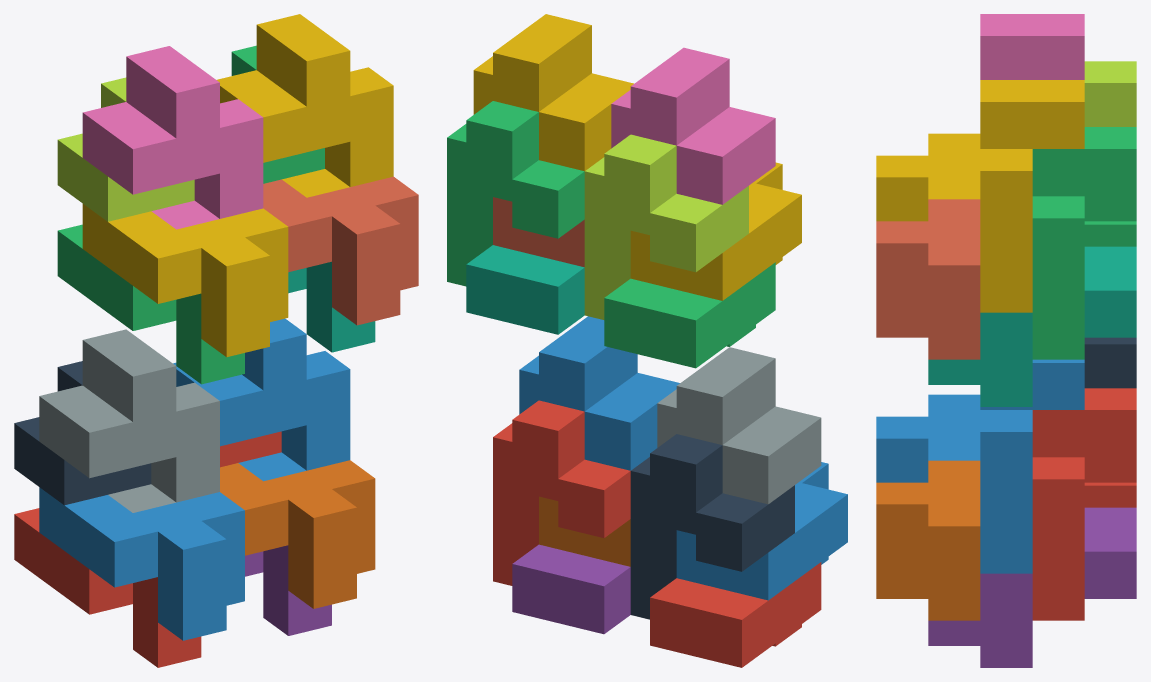
Rendered from tiling.obj.
3 views of the same model, side by side, from view 1: azimuth 30°, elevation 25°; view 2: azimuth 150°, elevation 25°; view 3: azimuth 270°, elevation 25° (orthographic). The views are drawn at different scales.
Parts seen in each view (by area): view 1: copy_2_domain_4, copy_2_domain_2, copy_2_domain_8, copy_1_domain_4, copy_1_domain_2, copy_1_domain_6, copy_1_domain_8, copy_2_domain_6, copy_1_domain_3, copy_1_domain_1, copy_2_domain_3, copy_2_domain_1 (+4 smaller); view 2: copy_2_domain_3, copy_2_domain_1, copy_2_domain_4, copy_2_domain_2, copy_2_domain_5, copy_2_domain_7, copy_2_domain_8, copy_2_domain_6, copy_1_domain_1, copy_1_domain_3, copy_1_domain_2, copy_1_domain_4 (+4 smaller); view 3: copy_2_domain_5, copy_2_domain_7, copy_2_domain_8, copy_1_domain_8, copy_1_domain_6, copy_2_domain_6, copy_1_domain_5, copy_1_domain_7, copy_1_domain_2, copy_1_domain_4, copy_2_domain_4, copy_2_domain_3 (+3 smaller).
Part boxes in pixels (box(x1,y1,x2,y2)): copy_2_domain_4: box(82, 46, 263, 229); copy_2_domain_2: box(39, 329, 219, 512); copy_2_domain_8: box(217, 14, 393, 197); copy_1_domain_4: box(82, 204, 288, 357); copy_1_domain_2: box(39, 487, 244, 640); copy_1_domain_6: box(220, 460, 375, 608); copy_1_domain_8: box(263, 176, 418, 325); copy_2_domain_6: box(173, 318, 350, 481); copy_1_domain_3: box(57, 224, 244, 384); copy_1_domain_1: box(14, 508, 201, 667); copy_2_domain_3: box(57, 77, 194, 221); copy_2_domain_1: box(14, 361, 151, 505); copy_2_domain_3: box(584, 134, 748, 319); copy_2_domain_1: box(630, 434, 794, 619); copy_2_domain_4: box(611, 47, 775, 204); copy_2_domain_2: box(657, 347, 821, 504); copy_2_domain_5: box(493, 400, 630, 585); copy_2_domain_7: box(447, 101, 584, 286); copy_2_domain_8: box(473, 14, 633, 171); copy_2_domain_6: box(519, 316, 679, 470); copy_1_domain_1: box(650, 562, 821, 667); copy_1_domain_3: box(604, 262, 775, 368); copy_1_domain_2: box(676, 462, 847, 600); copy_1_domain_4: box(630, 162, 801, 300); copy_2_domain_5: box(1032, 388, 1136, 620); copy_2_domain_7: box(1032, 127, 1136, 359); copy_2_domain_8: box(980, 80, 1084, 312); copy_1_domain_8: box(876, 199, 980, 359); copy_1_domain_6: box(876, 460, 980, 620); copy_2_domain_6: box(980, 359, 1084, 573); copy_1_domain_5: box(928, 507, 1136, 667); copy_1_domain_7: box(928, 246, 1136, 406); copy_1_domain_2: box(876, 394, 980, 482); copy_1_domain_4: box(876, 133, 980, 221); copy_2_domain_4: box(980, 14, 1084, 79); copy_2_domain_3: box(1084, 61, 1136, 126).
Bounding box in the file's own units: 7 × 12 × 5.
